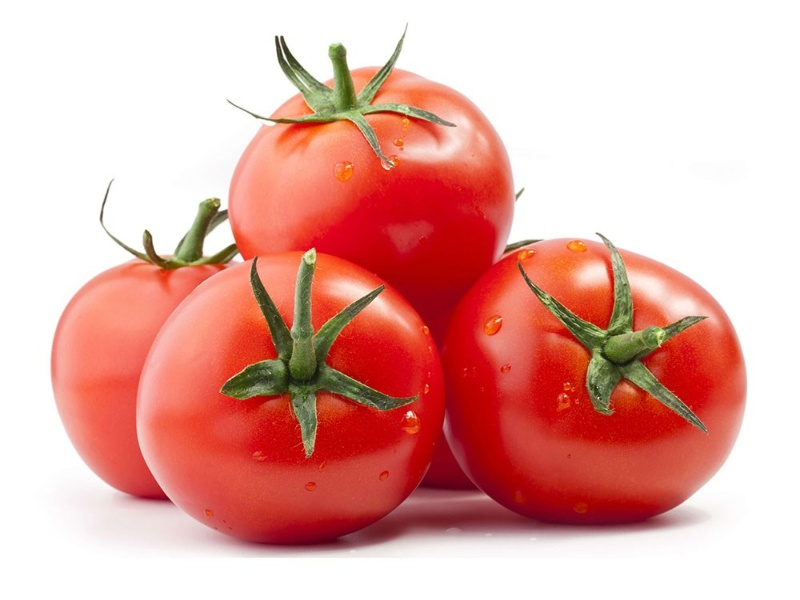Tomate: (134, 251, 444, 545), (442, 238, 748, 526), (229, 65, 516, 312), (51, 259, 259, 502)
